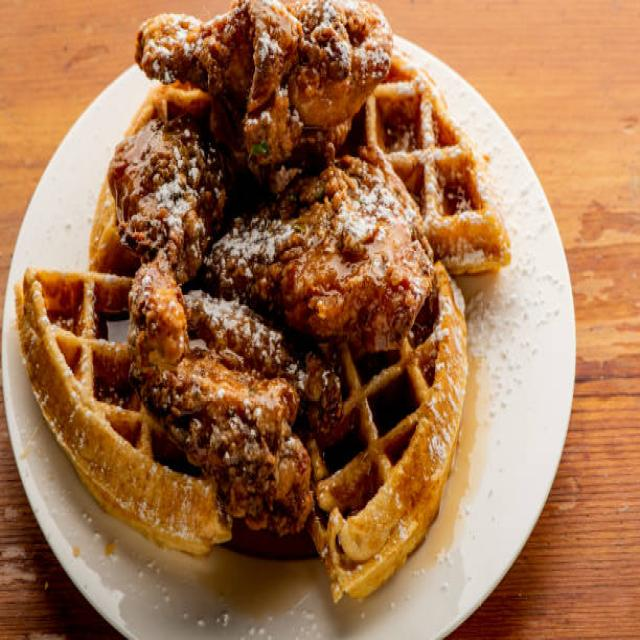Frango: (98, 0, 442, 551)
